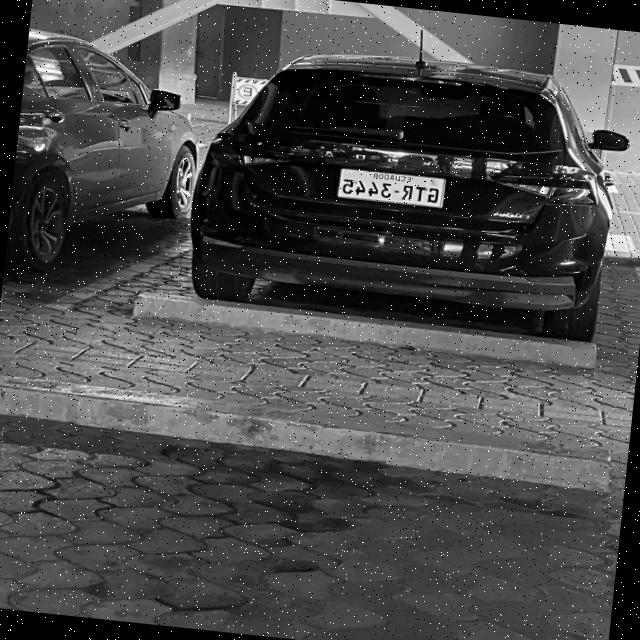Placa: (337, 169, 443, 207)
